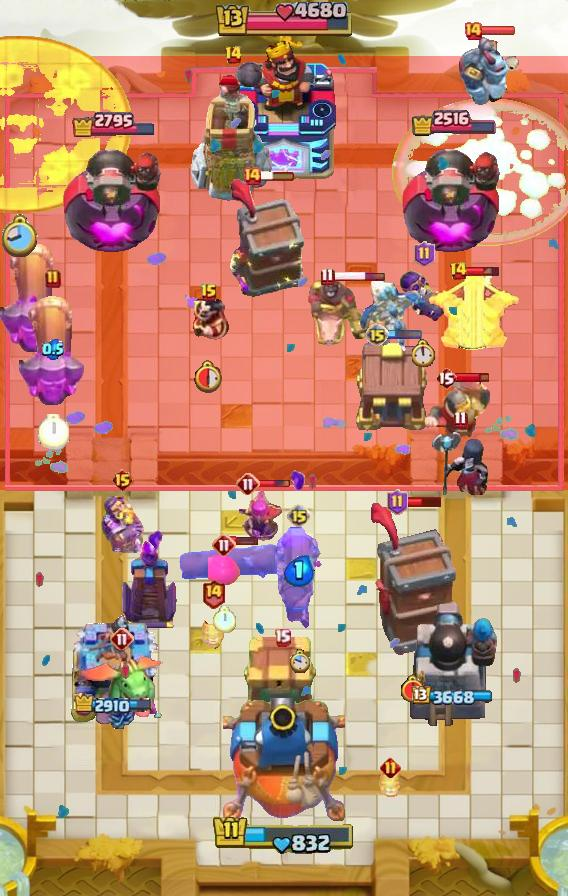battle-healer: (276, 527, 322, 631)
bomb: (353, 339, 433, 433), (243, 636, 321, 724)
clock: (212, 814, 356, 856), (213, 2, 355, 40)
dart-goblin: (368, 501, 458, 657), (229, 179, 307, 299)
electro-spirit: (285, 555, 315, 587), (42, 338, 64, 360)
electro-wizard: (77, 655, 167, 721)
elixir: (1, 214, 38, 259), (38, 414, 69, 450), (194, 359, 225, 393), (400, 675, 426, 704), (412, 339, 436, 367), (212, 606, 235, 633), (289, 649, 311, 674)
elixir-golem-small: (457, 36, 517, 106)
emote: (332, 271, 386, 282), (454, 371, 490, 385), (406, 496, 443, 509), (260, 170, 296, 182), (467, 265, 502, 277), (480, 24, 516, 35), (387, 329, 423, 340), (224, 535, 259, 546), (257, 479, 291, 489)
evolution-symbol: (239, 487, 287, 549)
firecracker: (425, 378, 491, 450)
firecracker-evolution: (100, 492, 145, 555)
freeze: (306, 276, 372, 348)
furnace: (0, 240, 68, 352), (19, 293, 87, 405)
goblin-ball: (398, 270, 450, 326)
ice-spirit-evolution: (199, 614, 227, 650), (379, 768, 401, 798)
ice-spirit-evolution-symbol: (119, 538, 179, 630)
king-tower: (223, 698, 345, 826), (230, 41, 338, 181)
lava-pup: (425, 271, 523, 353)
lumberjack: (188, 296, 230, 344)
miner: (208, 555, 240, 585)
mini-pekka: (358, 273, 428, 357)
minion: (178, 539, 280, 583)
phoenix-big: (392, 96, 568, 247)
phoenix-egg: (0, 35, 132, 214)
queen-tower: (65, 614, 162, 730)
rascal-boy: (428, 430, 492, 502)
selected: (411, 108, 498, 137), (71, 111, 157, 138), (74, 693, 154, 717), (413, 686, 496, 707)
text: (202, 578, 227, 609), (365, 323, 389, 347), (236, 472, 260, 496), (287, 504, 311, 528), (212, 533, 236, 557), (110, 627, 134, 651), (111, 468, 134, 492), (414, 241, 435, 267), (387, 489, 408, 515), (435, 366, 457, 390), (380, 757, 401, 779), (463, 21, 483, 41), (242, 166, 262, 186), (448, 261, 468, 281), (225, 45, 244, 65), (200, 283, 218, 303), (273, 629, 291, 648), (45, 269, 61, 289), (321, 267, 335, 286), (453, 411, 467, 429)
tower-bar: (62, 138, 166, 256), (401, 138, 505, 256), (408, 599, 498, 731)
zappy: (189, 61, 277, 205)
